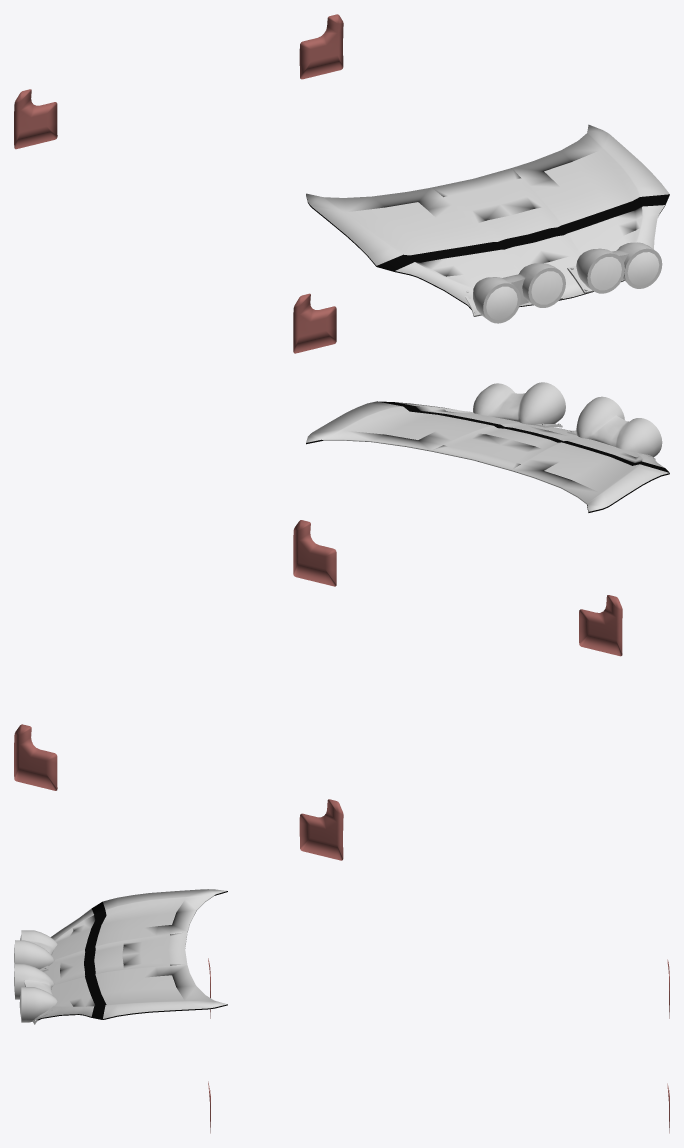
Rendered from sbr_rally.dae.
3 renders of one model, top to bottom at view 1: azimuth 30°, elevation 25°; view 2: azimuth 150°, elevation 25°; view 3: azimuth 270°, elevation 25°, orthographic. The views are drawn at different scales.
Visible parts, largest first — view 1: sbr_hood1, sbr_mudflap_R, sbr_rallylights_R, sbr_mudflap_FR, sbr_rallylights_L, sbr_rallylights_glass_L, sbr_rallylights_glass_R; view 2: sbr_hood1, sbr_mudflap_R, sbr_rallylights_R, sbr_rallylights_L, sbr_mudflap_FR, sbr_mudflap_FL; view 3: sbr_hood1, sbr_rallylights_L, sbr_rallylights_R.
Part boxes in pixels (box(x1,y1,x2,y2)): sbr_hood1: box(306, 124, 669, 309); sbr_mudflap_R: box(14, 14, 343, 149); sbr_rallylights_R: box(464, 263, 565, 323); sbr_mudflap_FR: box(293, 293, 336, 353); sbr_rallylights_L: box(567, 242, 662, 293); sbr_rallylights_glass_L: box(590, 252, 659, 290); sbr_rallylights_glass_R: box(486, 271, 562, 319); sbr_hood1: box(306, 401, 669, 512); sbr_mudflap_R: box(14, 724, 343, 860); sbr_rallylights_R: box(567, 396, 662, 459); sbr_rallylights_L: box(467, 382, 565, 427); sbr_mudflap_FR: box(579, 595, 622, 656); sbr_mudflap_FL: box(293, 520, 336, 586); sbr_hood1: box(37, 889, 227, 1020); sbr_rallylights_L: box(15, 964, 57, 1024); sbr_rallylights_R: box(15, 930, 57, 971).
Bounding box in the file's own units: 1.7 × 3.56 × 0.7242.
